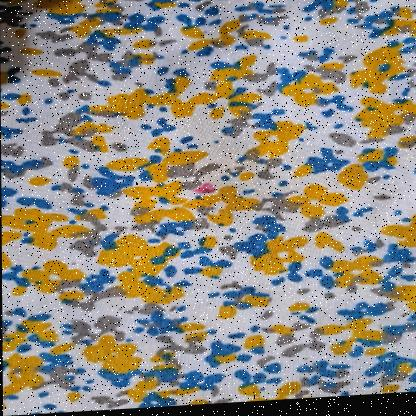spot: (190, 183, 225, 201)
